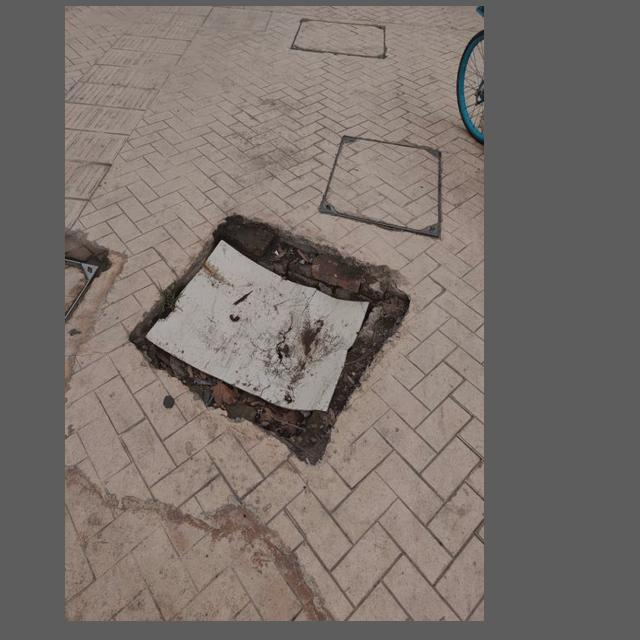broke: (121, 196, 420, 482)
